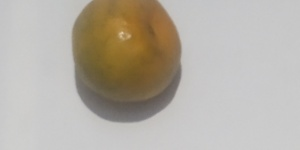BAD: (73, 1, 182, 103)
